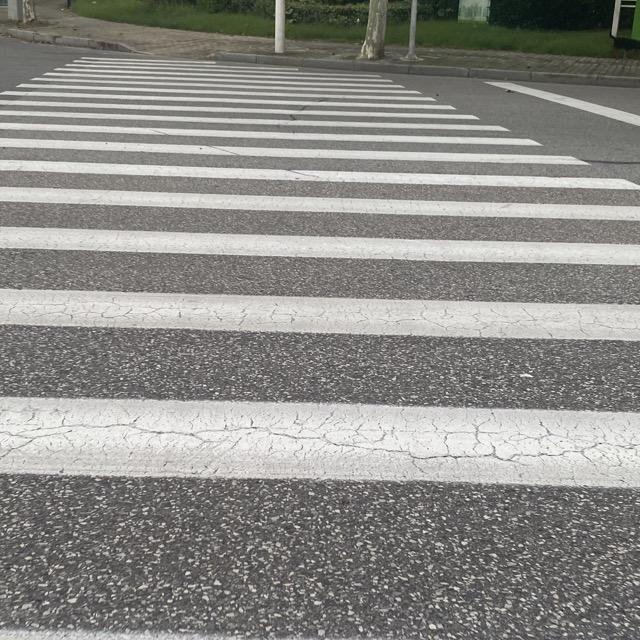curb: (209, 54, 639, 87), (11, 30, 127, 51)
